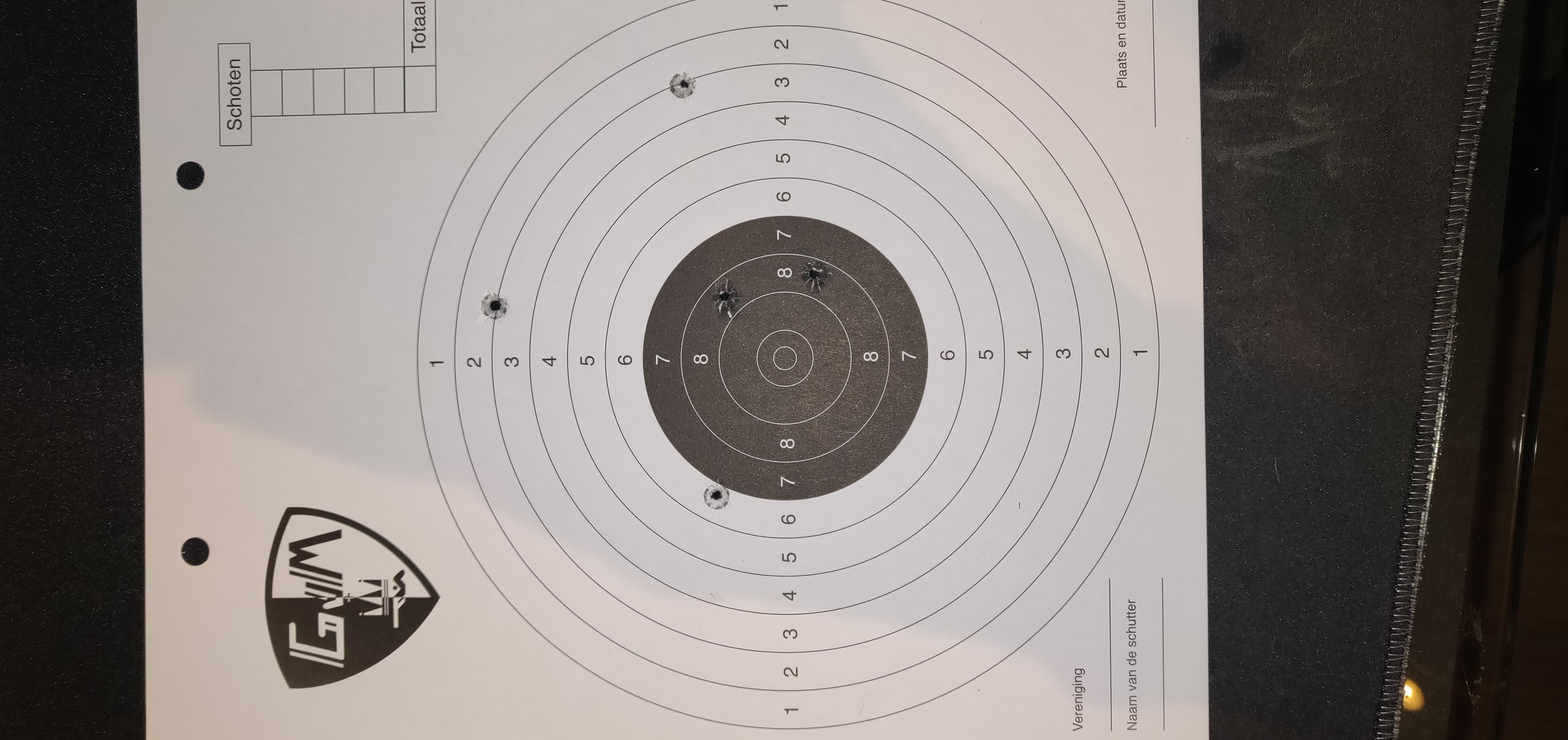hole: (736, 447, 767, 481), (1058, 418, 1089, 449), (828, 427, 857, 457), (873, 640, 901, 671), (838, 229, 865, 258)
